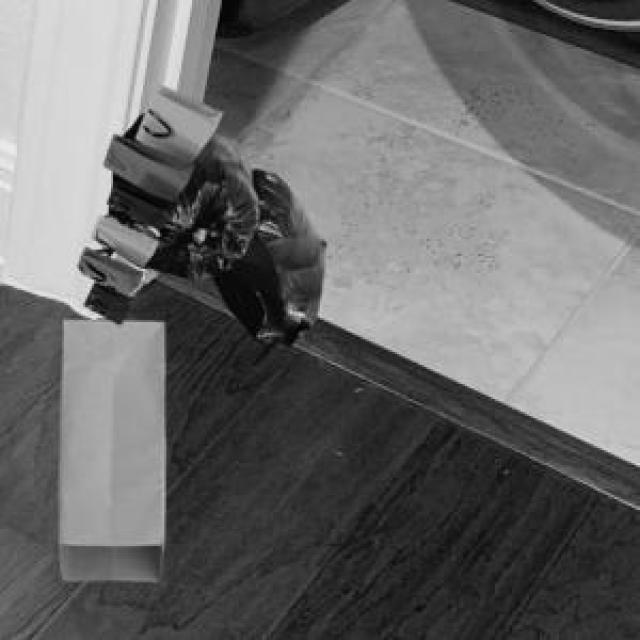miscellaneous trash: (105, 111, 322, 344)
paper: (75, 81, 218, 320), (56, 316, 160, 578)
